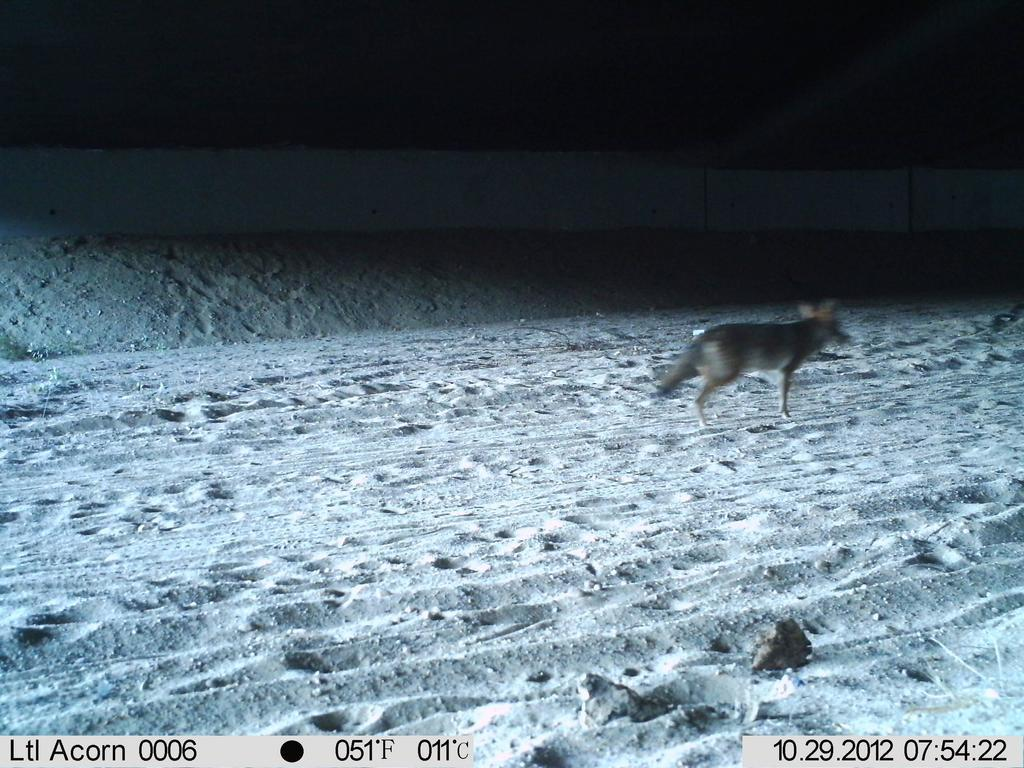coyote: (653, 296, 858, 433)
